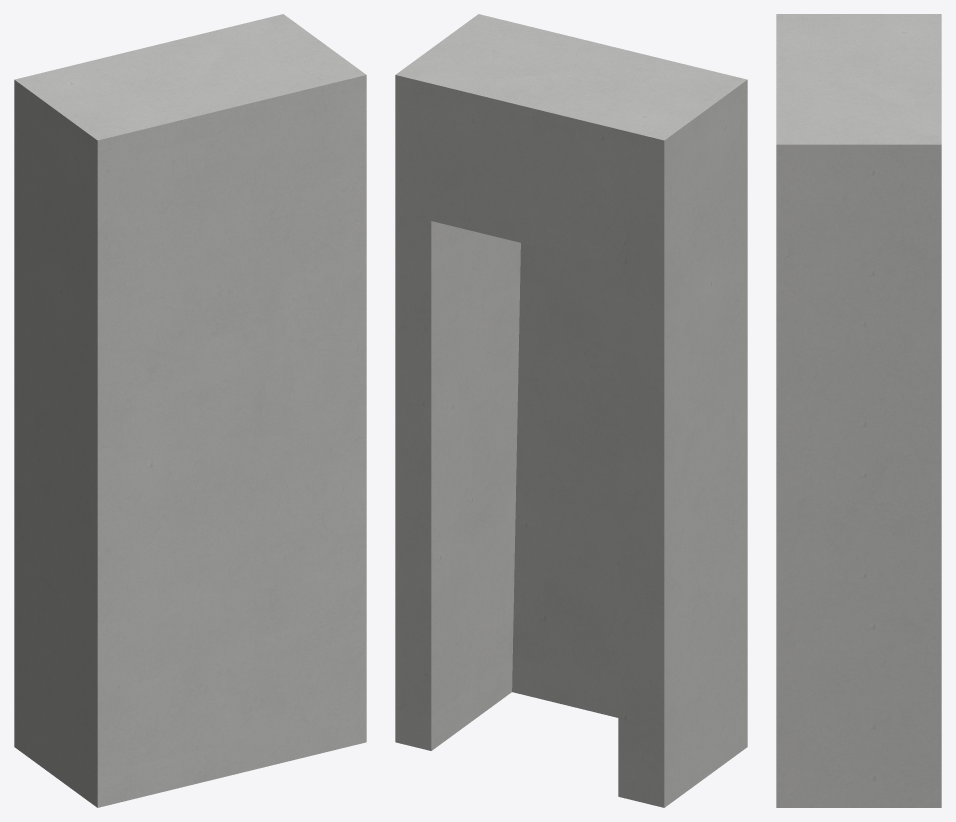
Rendered from Storge1.fbx.
3 renders of one model, left to right at view 1: azimuth 30°, elevation 25°; view 2: azimuth 150°, elevation 25°; view 3: azimuth 270°, elevation 25°, orthographic.
Visible parts, largest first — view 1: polySurface415; view 2: polySurface415; view 3: polySurface415.
Boxes of the visible parts, x1,y1,x2,y2 form: polySurface415: (14,14,366,807); polySurface415: (395,14,747,807); polySurface415: (776,14,941,807).
Size of the model in its own units: 1.12 by 2.66 by 0.6.
Materials: 1 (1 with a texture image).
